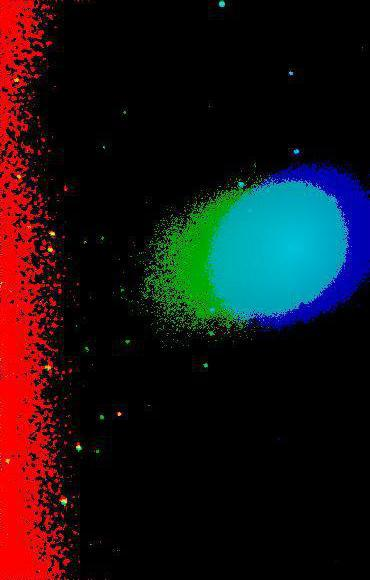star: (104, 400, 134, 430)
